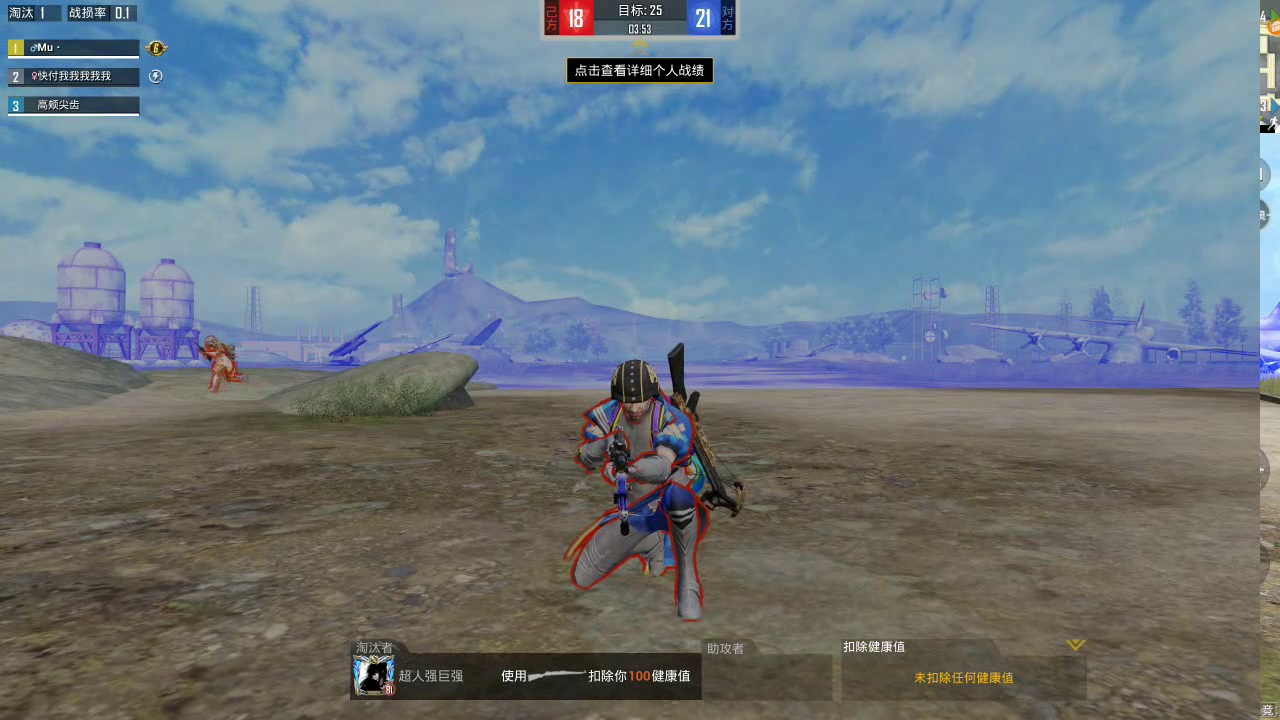enemy: (569, 358, 720, 618), (198, 332, 245, 393)
